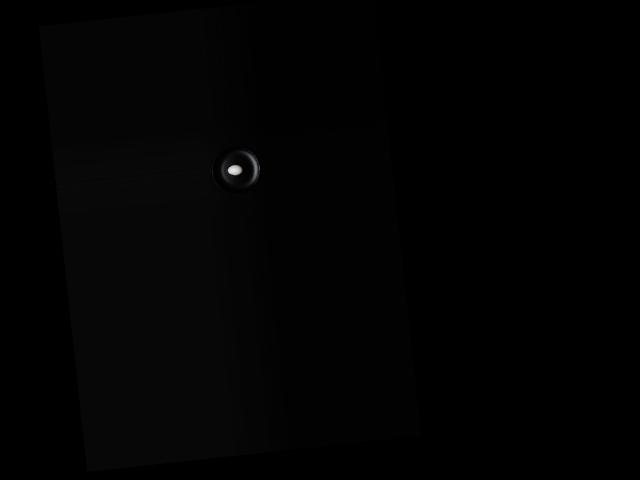egg: (227, 164, 243, 176)
